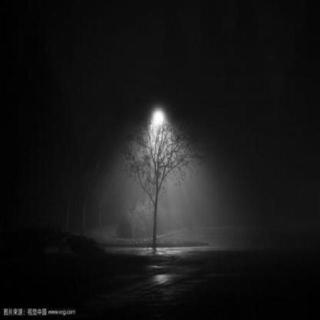other: (145, 101, 179, 168)
